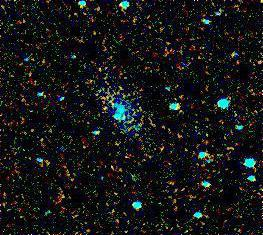star: (98, 100, 128, 130)
